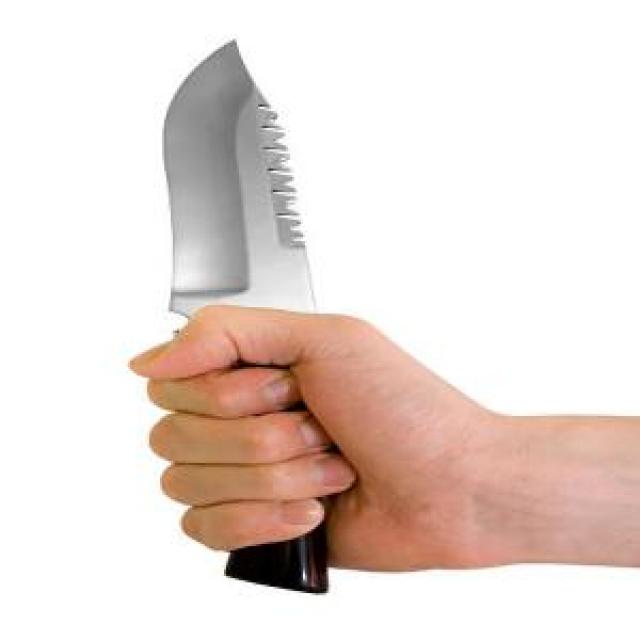knife: (158, 39, 331, 598)
